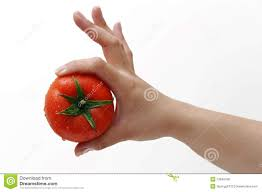tomato: (44, 72, 114, 142)
